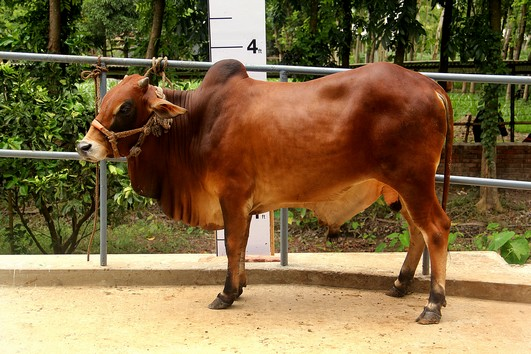cow: (72, 52, 461, 329)
